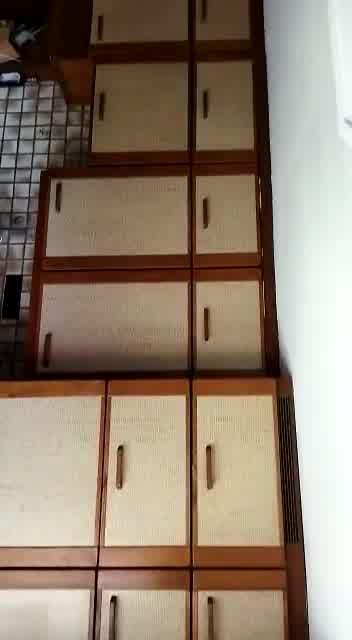cabinet_door: (1, 377, 106, 565), (192, 385, 283, 567), (37, 267, 191, 371), (108, 379, 191, 570), (43, 173, 194, 264), (93, 60, 192, 166), (197, 266, 278, 373), (192, 55, 268, 163), (193, 172, 275, 263), (1, 566, 98, 638), (97, 570, 193, 640), (192, 571, 288, 640), (90, 0, 186, 48), (188, 0, 268, 54)
handle: (110, 442, 133, 498), (200, 441, 218, 494), (39, 328, 58, 371), (201, 84, 218, 125), (198, 193, 215, 233), (97, 89, 113, 130), (52, 179, 67, 218), (95, 8, 109, 48), (201, 305, 213, 347)
